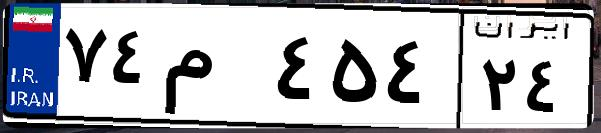2: (475, 38, 525, 113)
4: (270, 28, 330, 110), (385, 28, 445, 110), (525, 38, 570, 115), (110, 28, 158, 98)
5: (330, 28, 385, 110)
7: (57, 26, 110, 100)
م: (158, 20, 270, 120)
